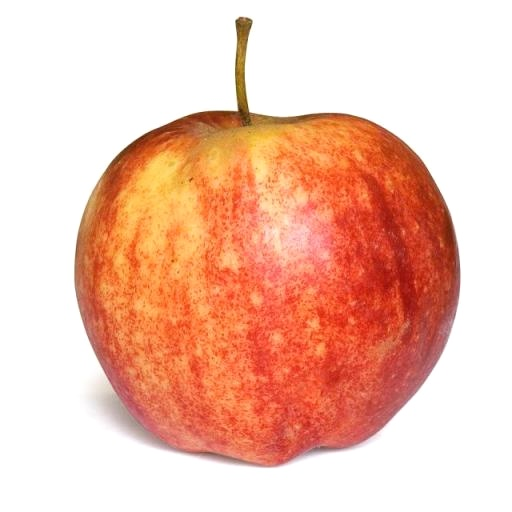fruit: (420, 141, 491, 496)
